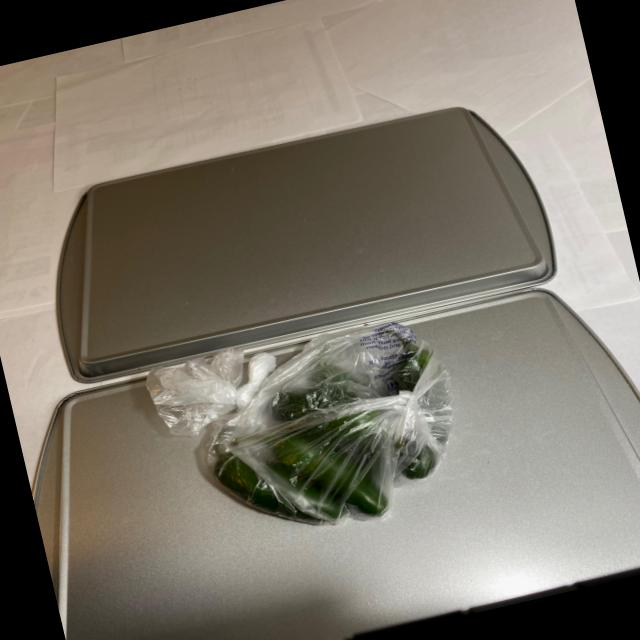chilli: (188, 319, 475, 538)
